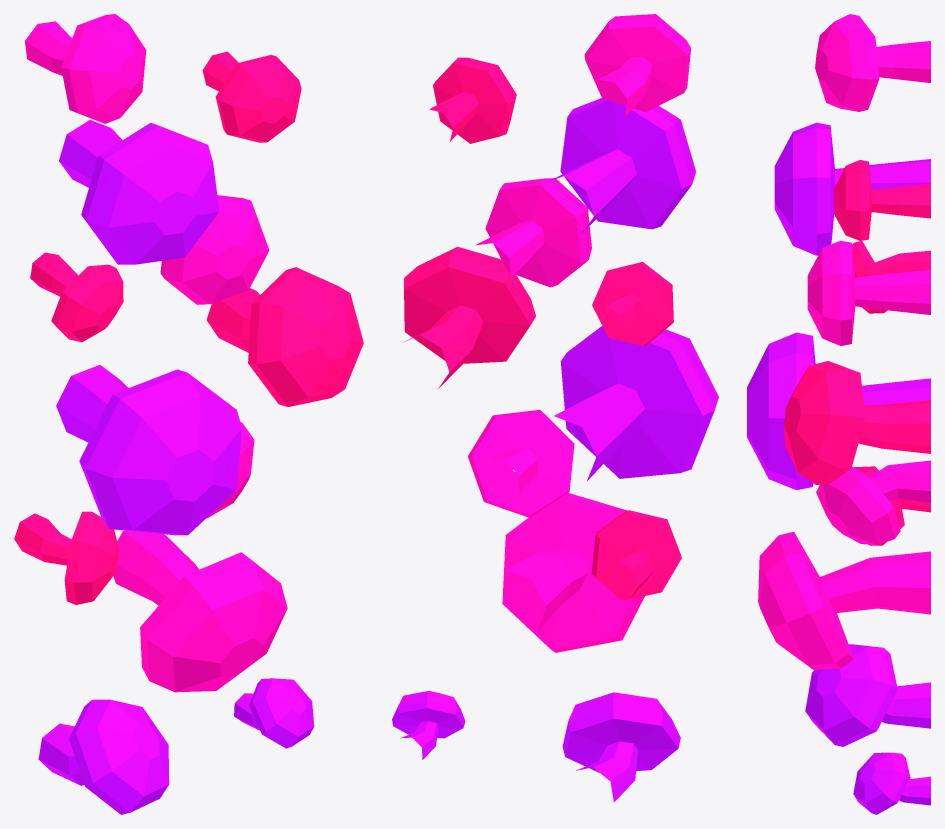
The model's file is mushroomGrove.glb.
The picture shows the model from 3 angles, left to right: view 1: azimuth 30°, elevation 25°; view 2: azimuth 150°, elevation 25°; view 3: azimuth 270°, elevation 25°; orthographic projection. The views are drawn at different scales.
Parts seen in each view (by area): view 1: mushroomGrove; view 2: mushroomGrove; view 3: mushroomGrove.
Boxes of the visible parts, left/top/right/bottom form: mushroomGrove: left=14, top=14, right=363, bottom=814; mushroomGrove: left=392, top=14, right=718, bottom=801; mushroomGrove: left=747, top=14, right=930, bottom=814.
Size of the model in its own units: 0.2953 by 0.7612 by 0.1795.
